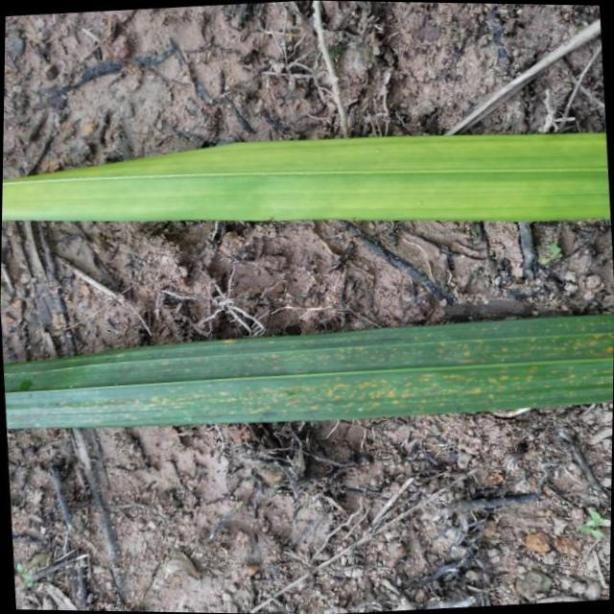nitrogen: (7, 310, 614, 427), (0, 126, 614, 227)
